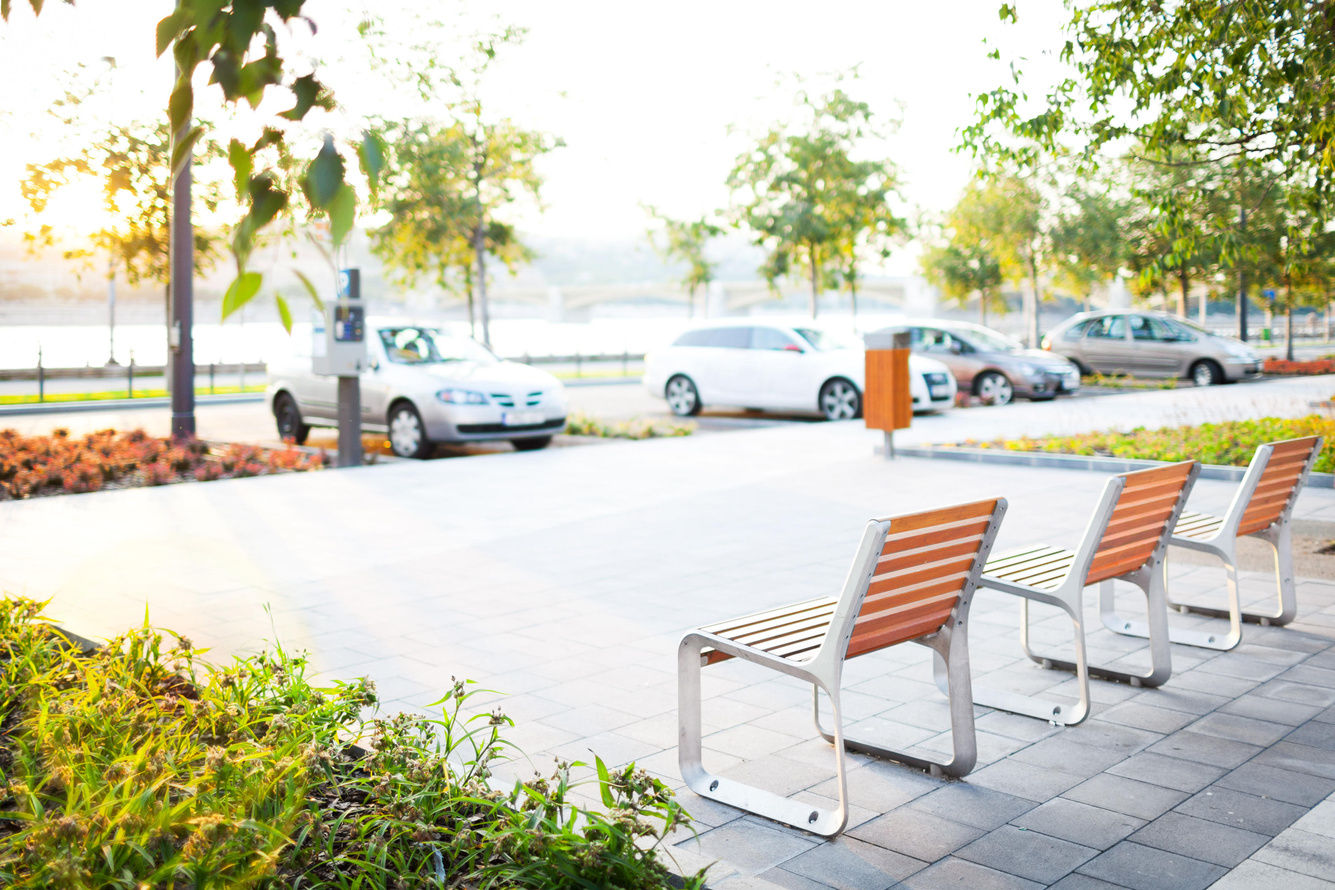Car: (266, 318, 576, 470), (651, 315, 856, 424), (1048, 303, 1275, 398), (915, 316, 1091, 406)
Chair: (648, 499, 1015, 838), (997, 462, 1207, 730), (1193, 436, 1315, 662)
TrashBin: (855, 331, 928, 450)
